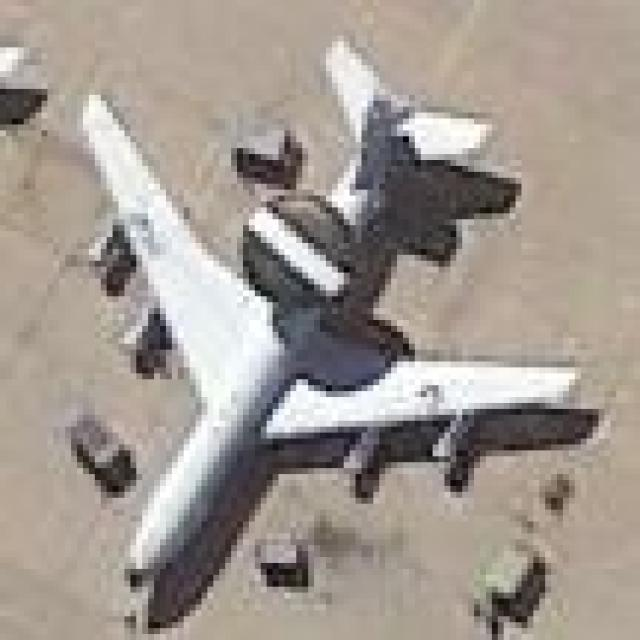E-3_TopDown: (60, 30, 604, 628)
